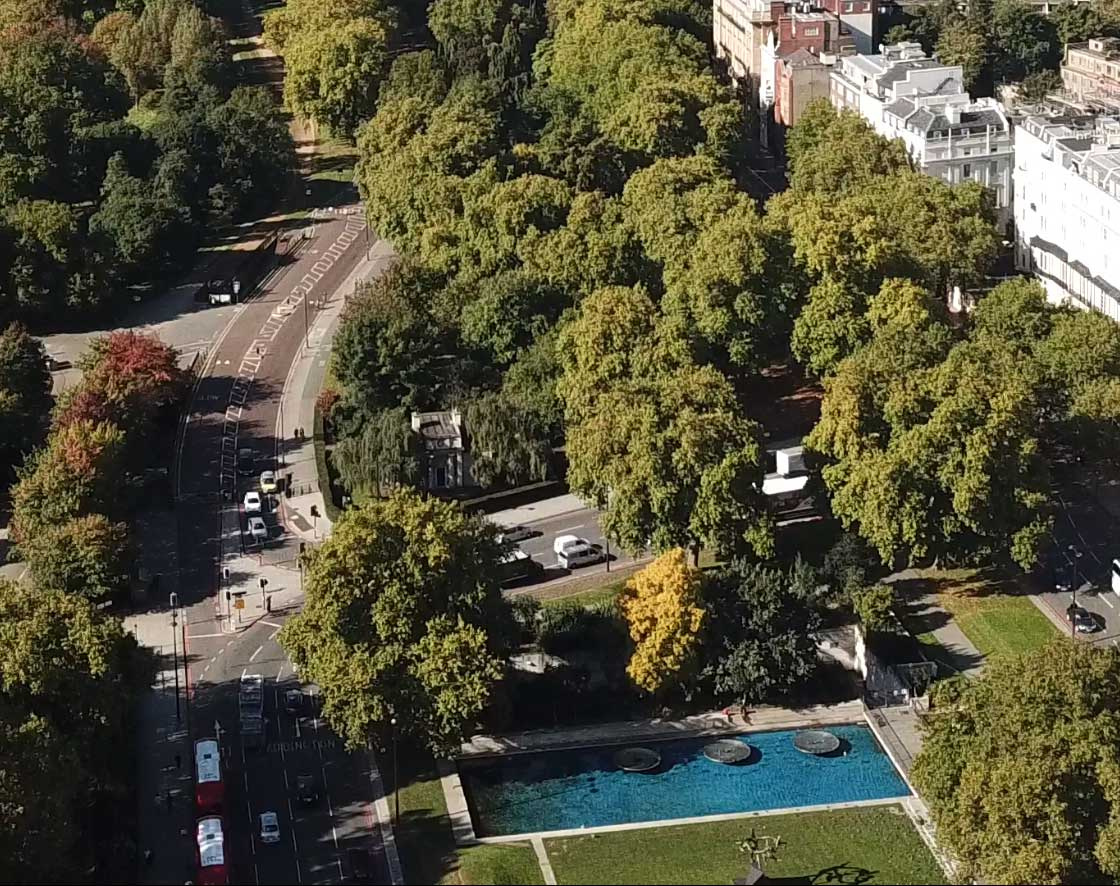trees: (365, 17, 727, 356), (827, 301, 1118, 538), (3, 4, 253, 253), (4, 340, 189, 608)
water: (484, 764, 604, 818), (686, 767, 886, 794)
